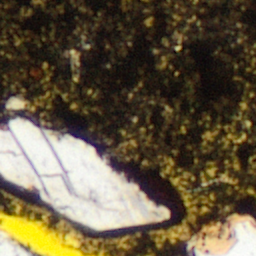cement_matrix: (0, 0, 255, 255), (7, 97, 26, 112)
cracks: (0, 210, 108, 255)
gravel_crushed_stones: (0, 121, 162, 227), (197, 220, 255, 255), (0, 230, 33, 255), (8, 98, 25, 111)
